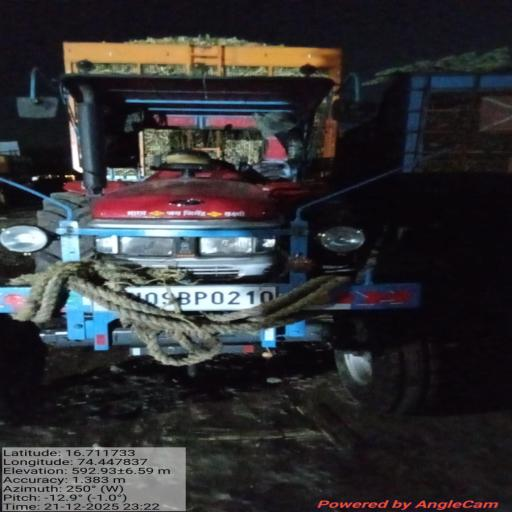number_plate: (106, 286, 298, 322)
